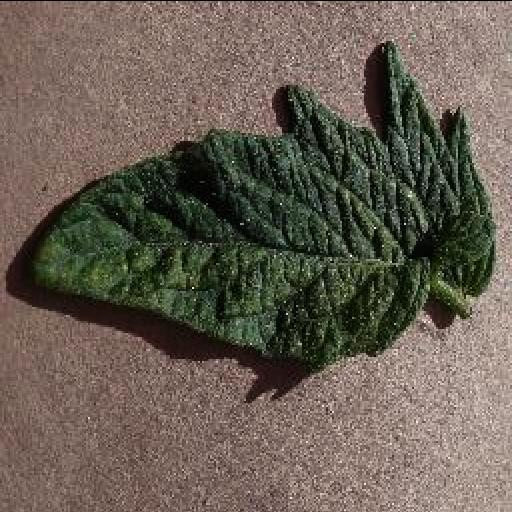disease_tomato: (32, 42, 496, 364)
